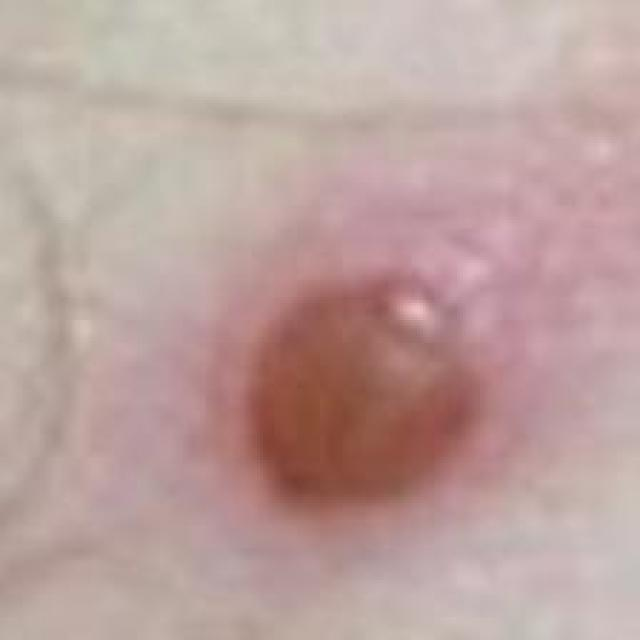monkeypox: (203, 200, 567, 608)
